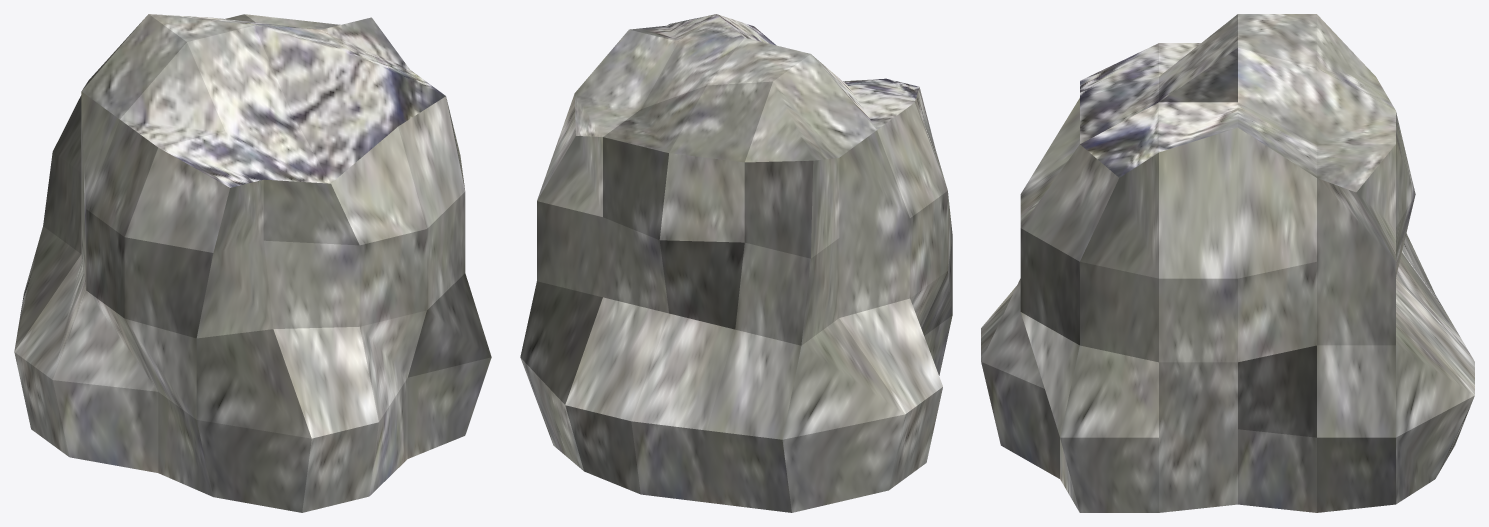
The model's file is Iridium.fbx.
The picture shows the model from 3 angles, left to right: view 1: azimuth 30°, elevation 25°; view 2: azimuth 150°, elevation 25°; view 3: azimuth 270°, elevation 25°; orthographic projection. The views are drawn at different scales.
Parts seen in each view (by area): view 1: Iridium; view 2: Iridium; view 3: Iridium.
Boxes of the visible parts, x1,y1,x2,y2 form: Iridium: (14,14,491,512); Iridium: (520,14,952,512); Iridium: (981,14,1474,512).
Bounding box in the file's own units: 100 × 100 × 112.
Materials: 1 (1 with a texture image).
